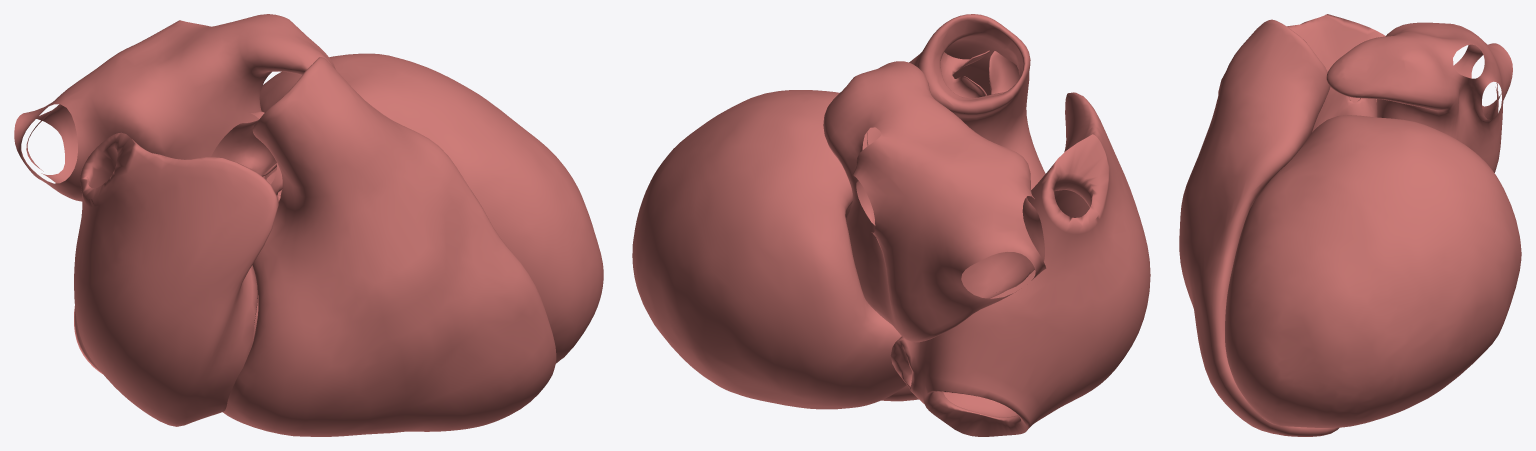
The model's file is optimized-heart.glb.
3 renders of one model, left to right at view 1: azimuth 30°, elevation 25°; view 2: azimuth 150°, elevation 25°; view 3: azimuth 270°, elevation 25°, orthographic. The views are drawn at different scales.
Parts seen in each view (by area): view 1: VH_F_right_ventricle, VH_F_right_cardiac_atrium, VH_F_left_ventricle, VH_F_left_cardiac_atrium, VH_F_aortic_valve; view 2: VH_F_left_ventricle, VH_F_right_cardiac_atrium, VH_F_left_cardiac_atrium, VH_F_right_ventricle, VH_F_pulmonary_valve; view 3: VH_F_left_ventricle, VH_F_right_ventricle, VH_F_left_cardiac_atrium, VH_F_right_cardiac_atrium, VH_F_aortic_valve.
Boxes of the visible parts, x1,y1,x2,y2 form: VH_F_right_ventricle: (222,57,556,436); VH_F_right_cardiac_atrium: (74,132,278,426); VH_F_left_ventricle: (259,53,603,363); VH_F_left_cardiac_atrium: (14,14,335,201); VH_F_aortic_valve: (211,111,282,202); VH_F_left_ventricle: (632,90,906,409); VH_F_right_cardiac_atrium: (890,92,1150,436); VH_F_left_cardiac_atrium: (823,61,1046,342); VH_F_right_ventricle: (881,14,1045,401); VH_F_pulmonary_valve: (940,50,1019,97); VH_F_left_ventricle: (1225,115,1521,427); VH_F_right_ventricle: (1179,19,1339,436); VH_F_left_cardiac_atrium: (1326,22,1512,172); VH_F_right_cardiac_atrium: (1218,14,1385,101); VH_F_aortic_valve: (1312,87,1377,132).
Size of the model in its own units: 0.1425 by 0.11 by 0.1015.
